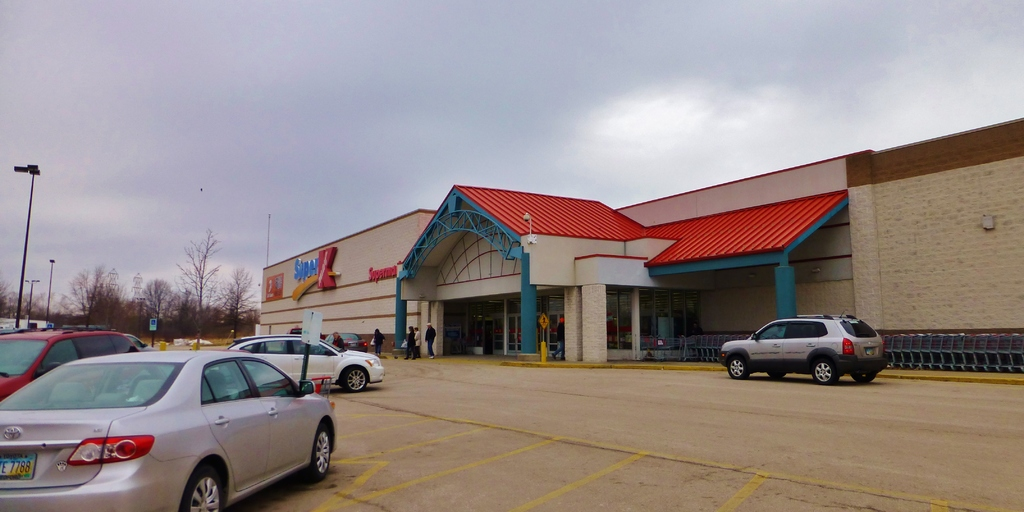Car: (0, 349, 335, 511), (717, 310, 887, 385), (0, 324, 138, 405), (209, 329, 384, 392), (323, 332, 368, 352), (120, 333, 151, 350), (287, 328, 321, 336)
